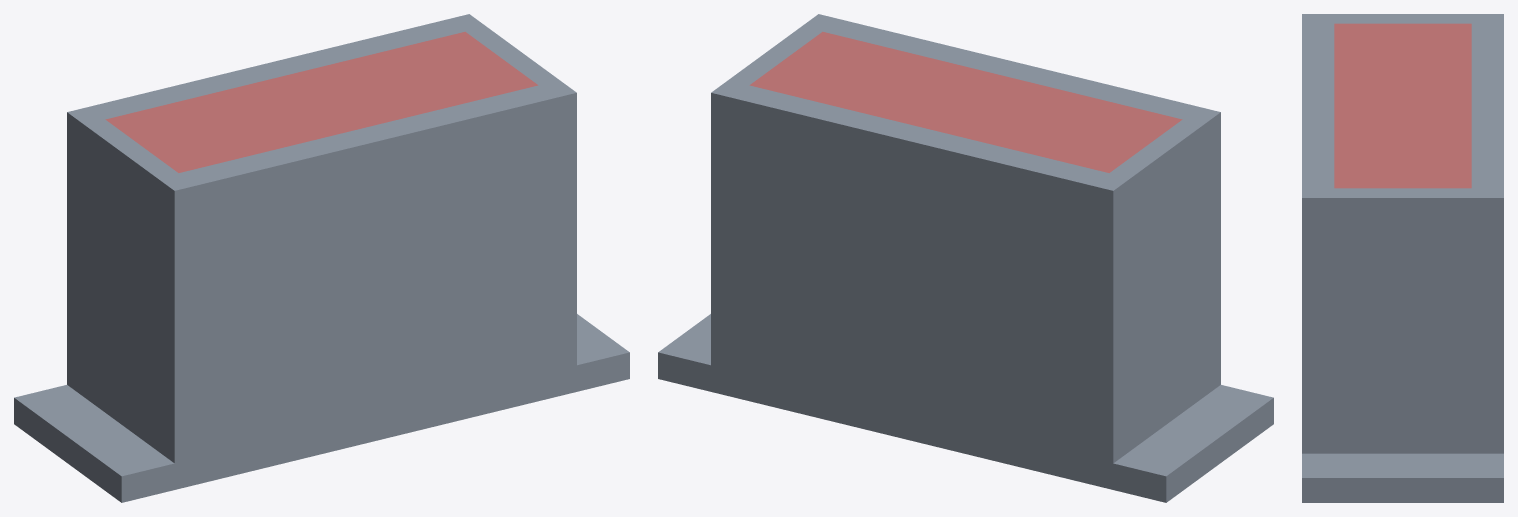
Rendered from step_02.glb.
The picture shows the model from 3 angles, left to right: view 1: azimuth 30°, elevation 25°; view 2: azimuth 150°, elevation 25°; view 3: azimuth 270°, elevation 25°; orthographic projection. The views are drawn at different scales.
Visible parts, largest first — view 1: part__gearbox housing, removed__gearbox housing; view 2: part__gearbox housing, removed__gearbox housing; view 3: part__gearbox housing, removed__gearbox housing.
Boxes of the visible parts, <box> form: part__gearbox housing: <box>14,14,629,502</box>; removed__gearbox housing: <box>105,31,538,172</box>; part__gearbox housing: <box>658,14,1273,502</box>; removed__gearbox housing: <box>749,31,1182,172</box>; part__gearbox housing: <box>1302,14,1503,502</box>; removed__gearbox housing: <box>1334,23,1471,188</box>.
Size of the model in its own units: 240 by 135 by 88.
